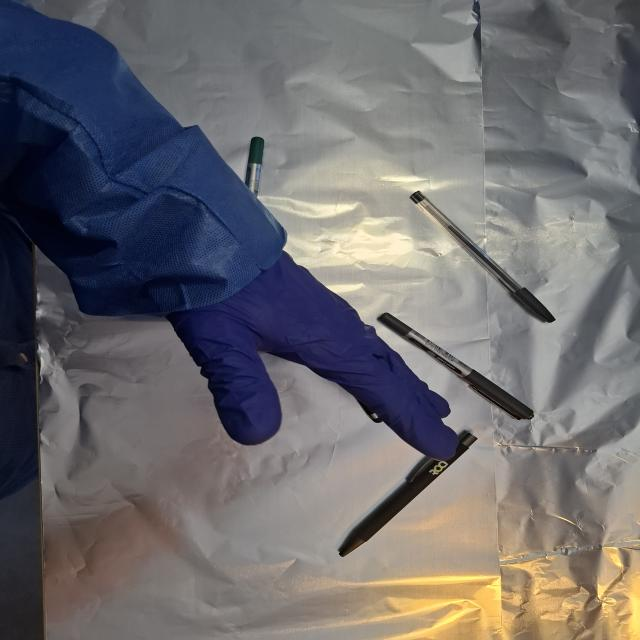glove_on: (161, 247, 461, 463)
